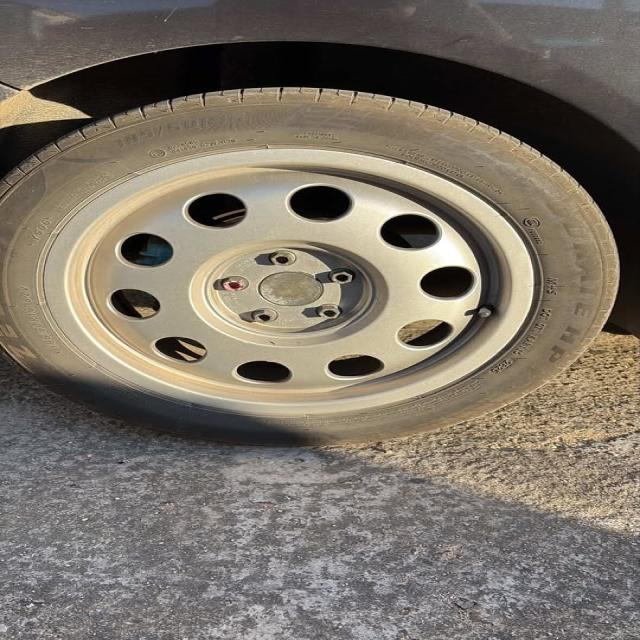jante: (38, 146, 536, 417)
parafuso: (262, 248, 305, 269), (245, 306, 282, 326), (326, 267, 359, 288), (219, 275, 253, 293), (315, 303, 345, 322)
roda: (0, 86, 621, 447)
